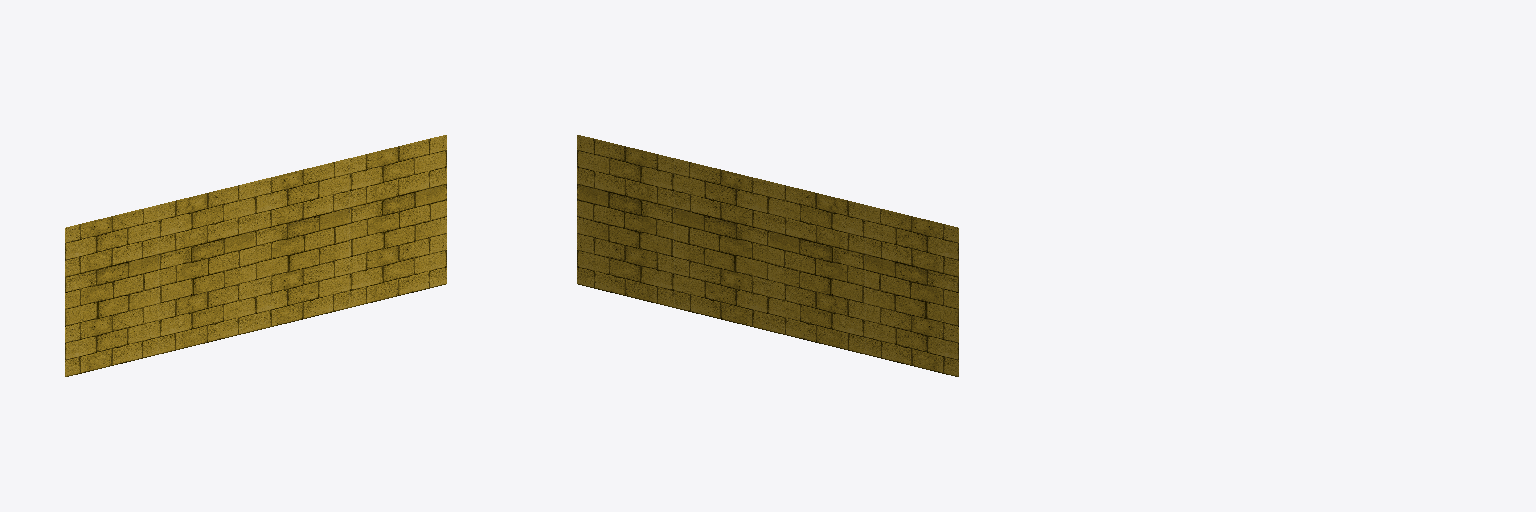
The picture shows the model from 3 angles: view 1: azimuth 30°, elevation 25°; view 2: azimuth 150°, elevation 25°; view 3: azimuth 270°, elevation 25°; orthographic projection.
Visible parts, largest first — view 1: brick_wall_x4; view 2: brick_wall_x4; view 3: none.
Boxes of the visible parts, x1,y1,x2,y2 form: brick_wall_x4: [65, 135, 446, 376]; brick_wall_x4: [577, 135, 958, 376].
Size of the model in its own units: 800 by 300 by 0.0001.
1 materials, 1 textured.